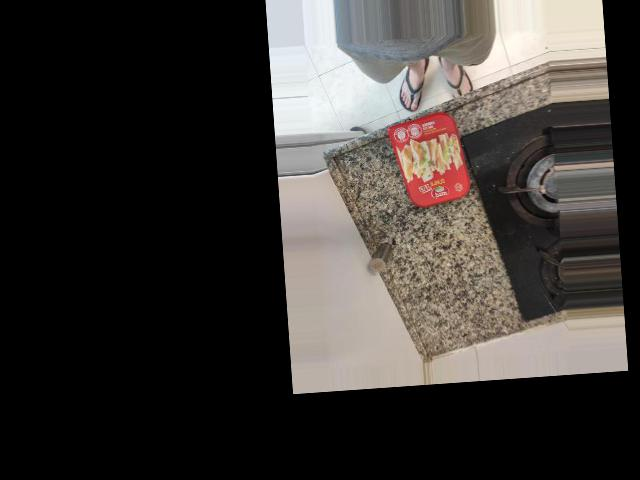cheese: (405, 188, 493, 307)
